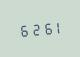one: (51, 19, 61, 35)
six: (40, 19, 50, 36), (18, 21, 28, 37)
two: (29, 20, 39, 36)
